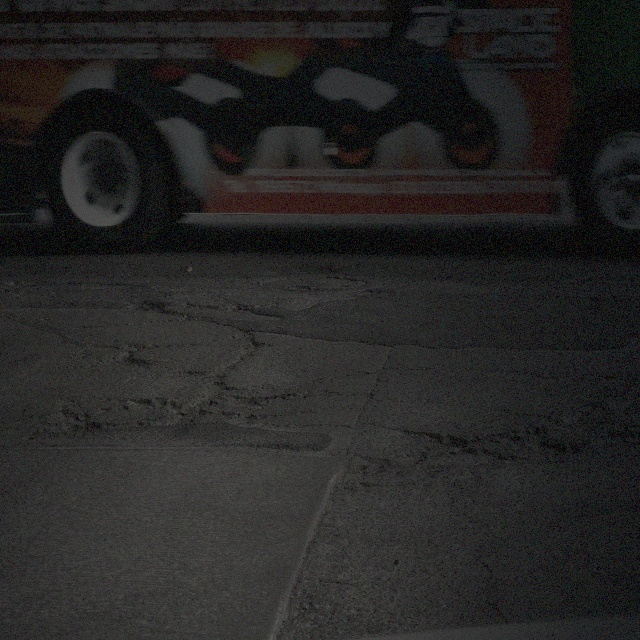pothole: (552, 396, 629, 460), (155, 369, 229, 427), (472, 418, 550, 463), (395, 424, 470, 466), (34, 398, 100, 431), (341, 450, 391, 485), (231, 438, 313, 458), (228, 393, 261, 432), (106, 343, 150, 371), (281, 586, 309, 626), (126, 297, 169, 316), (242, 328, 264, 359), (266, 388, 300, 407), (2, 276, 39, 290), (184, 298, 219, 312), (342, 275, 367, 291), (124, 400, 154, 412), (284, 282, 314, 294), (224, 298, 242, 312)
